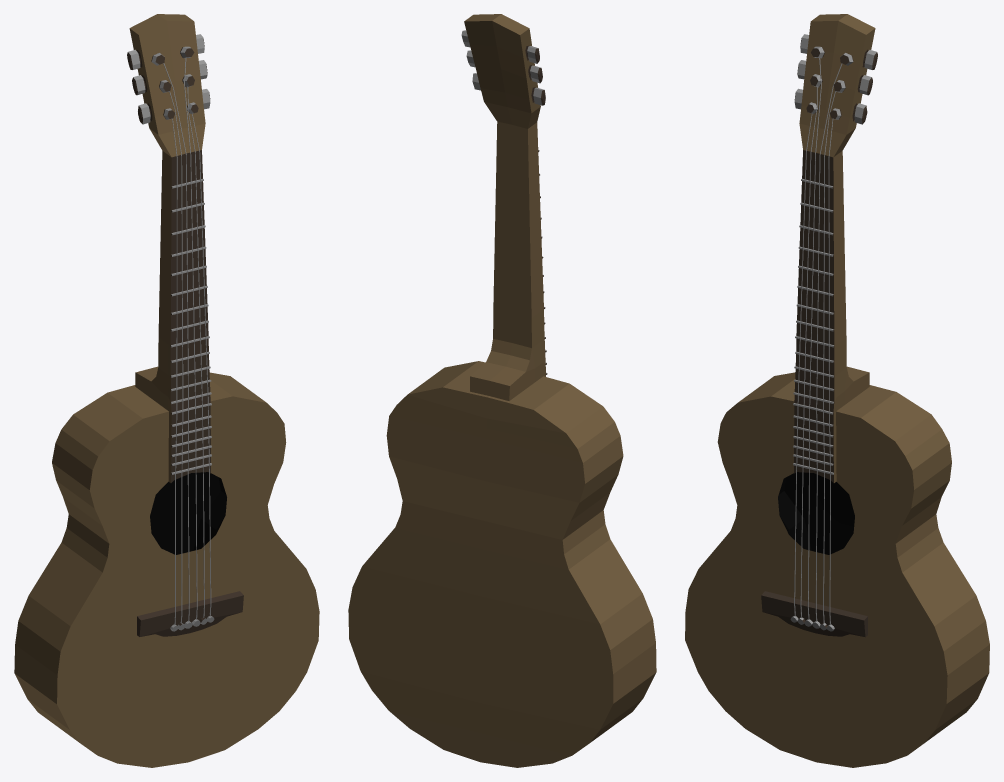
Rendered from Violo.dae.
3 views of the same model, side by side, from view 1: azimuth 30°, elevation 25°; view 2: azimuth 150°, elevation 25°; view 3: azimuth 330°, elevation 25° (orthographic).
Parts seen in each view (by area): view 1: Cubo; view 2: Cubo; view 3: Cubo.
Boxes of the visible parts, left/top/right/bottom form: Cubo: left=14, top=14, right=319, bottom=767; Cubo: left=348, top=14, right=656, bottom=767; Cubo: left=685, top=14, right=989, bottom=767.
Size of the model in its own units: 3.64 by 1.16 by 9.62.
